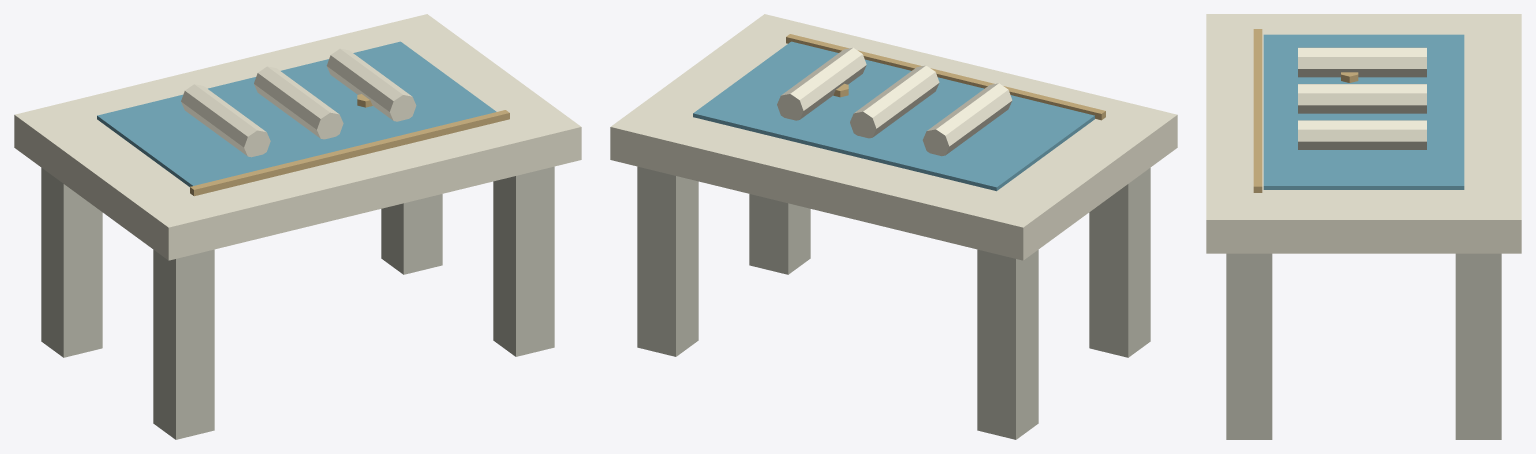
Rendered from tidal-chart-table__266.glb.
3 views of the same model, side by side, from view 1: azimuth 30°, elevation 25°; view 2: azimuth 150°, elevation 25°; view 3: azimuth 270°, elevation 25° (orthographic). The views are drawn at different scales.
Visible parts, largest first — view 1: tidal-observatory-chart-table; view 2: tidal-observatory-chart-table; view 3: tidal-observatory-chart-table.
Boxes of the visible parts, box(x1,y1,x2,y2) form: tidal-observatory-chart-table: box(14, 14, 581, 439); tidal-observatory-chart-table: box(610, 14, 1177, 439); tidal-observatory-chart-table: box(1206, 14, 1521, 439).
Size of the model in its own units: 1.7 by 1 by 1.1.
